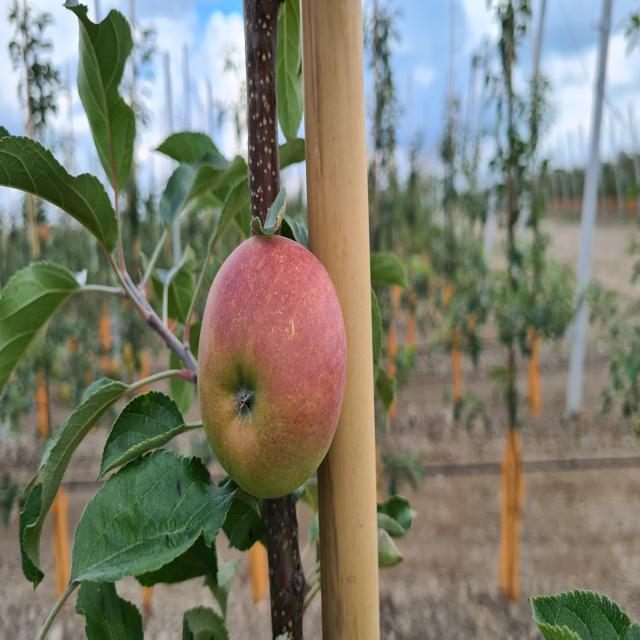Apple: (198, 236, 346, 500)
